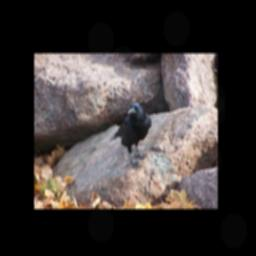Crow: (106, 99, 152, 170)
